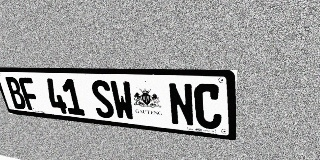1: (60, 79, 85, 116)
4: (43, 78, 69, 114)
B: (4, 77, 28, 110)
C: (194, 83, 222, 130)
F: (17, 77, 42, 111)
N: (167, 82, 195, 127)
S: (89, 80, 116, 119)
W: (109, 80, 136, 121)
